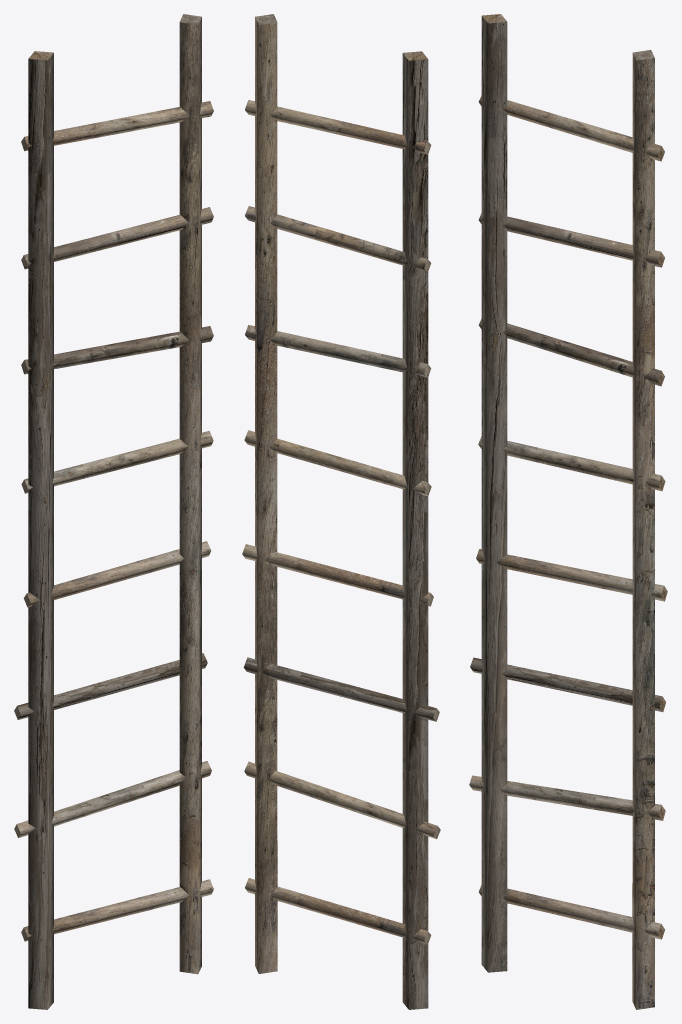
The model's file is Ladder1_LOD1.fbx.
The picture shows the model from 3 angles, left to right: view 1: azimuth 30°, elevation 25°; view 2: azimuth 150°, elevation 25°; view 3: azimuth 330°, elevation 25°; orthographic projection.
Visible parts, largest first — view 1: polySurface124; view 2: polySurface124; view 3: polySurface124.
Boxes of the visible parts, bbox=[...] form: polySurface124: bbox=[14, 14, 213, 1009]; polySurface124: bbox=[242, 14, 440, 1009]; polySurface124: bbox=[469, 14, 667, 1009].
Bounding box in the file's own units: 0.8584 × 4.05 × 0.1153.
